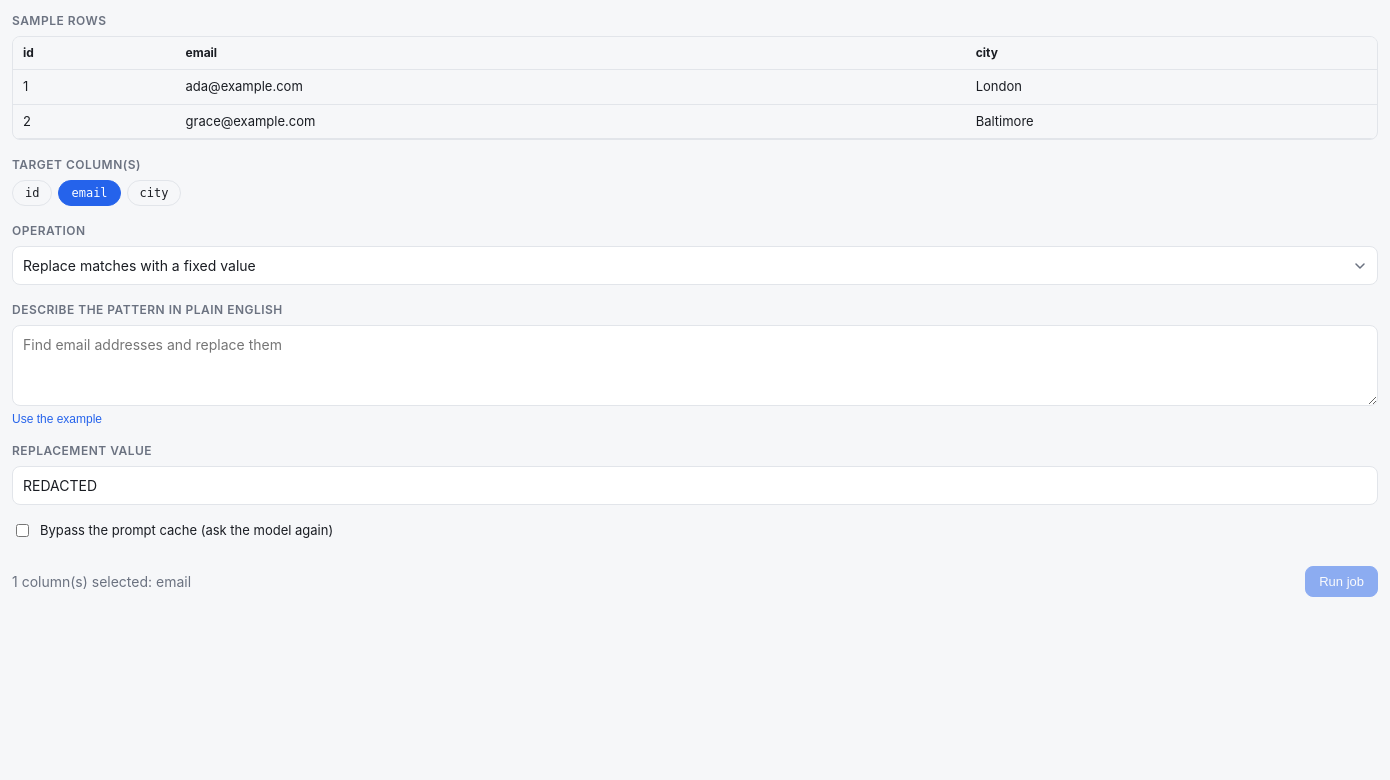
JobForm › keeps submit disabled until a column and a description are present
Expected: the text "Sample rows" is shown, [12, 13, 106, 28]
Expected: the button "Run job" is disabled, [1305, 566, 1378, 596]
Type "redact emails" into the text box labelled "Describe the pattern in plain English Use the example" at (695, 366), box [12, 325, 1378, 406]
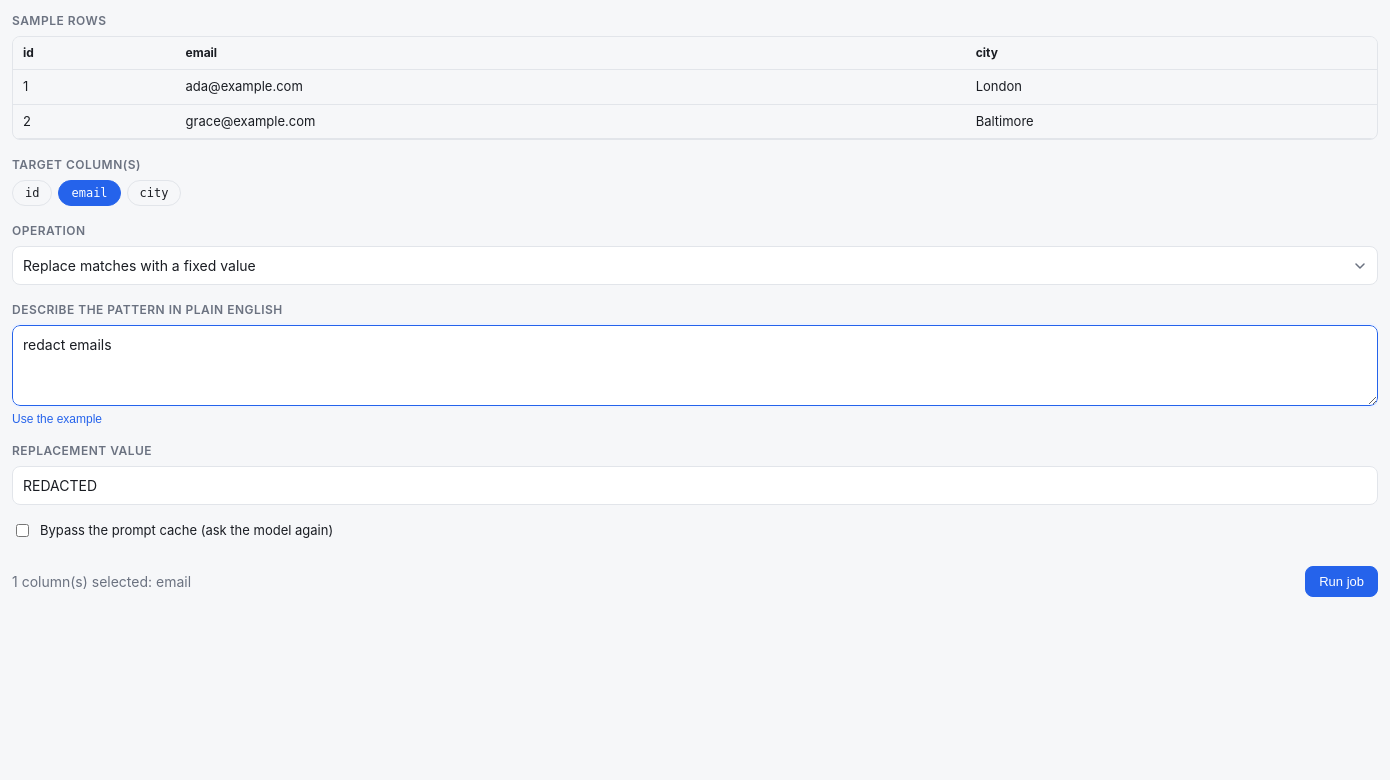
Now the button "Run job" is enabled, box [1305, 566, 1378, 596]
Note: Deselecting the only column invalidates the form again.
Click the button "email" at (90, 193), box [58, 180, 121, 206]
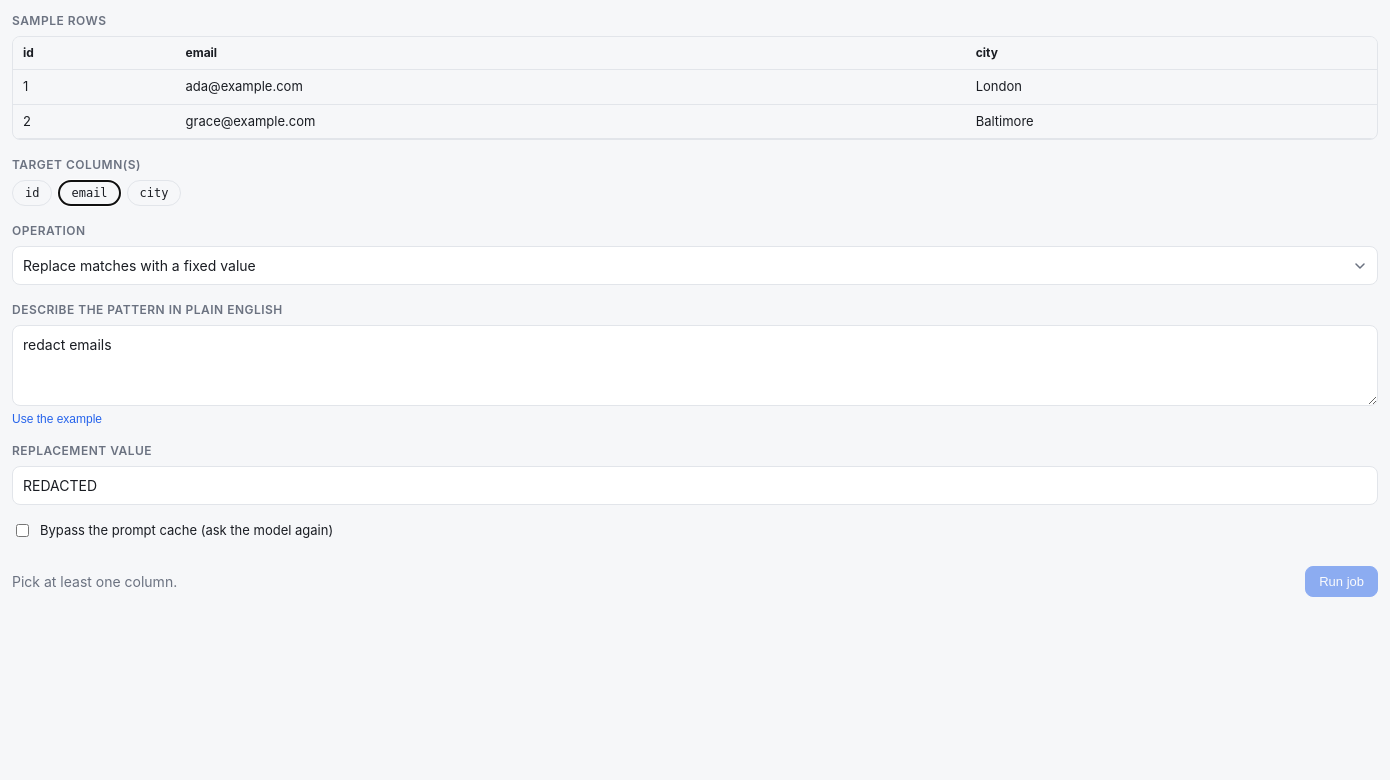
Now the button "Run job" is disabled, box [1305, 566, 1378, 596]
Now the text "Pick at least one column." is shown, box [12, 570, 177, 592]
